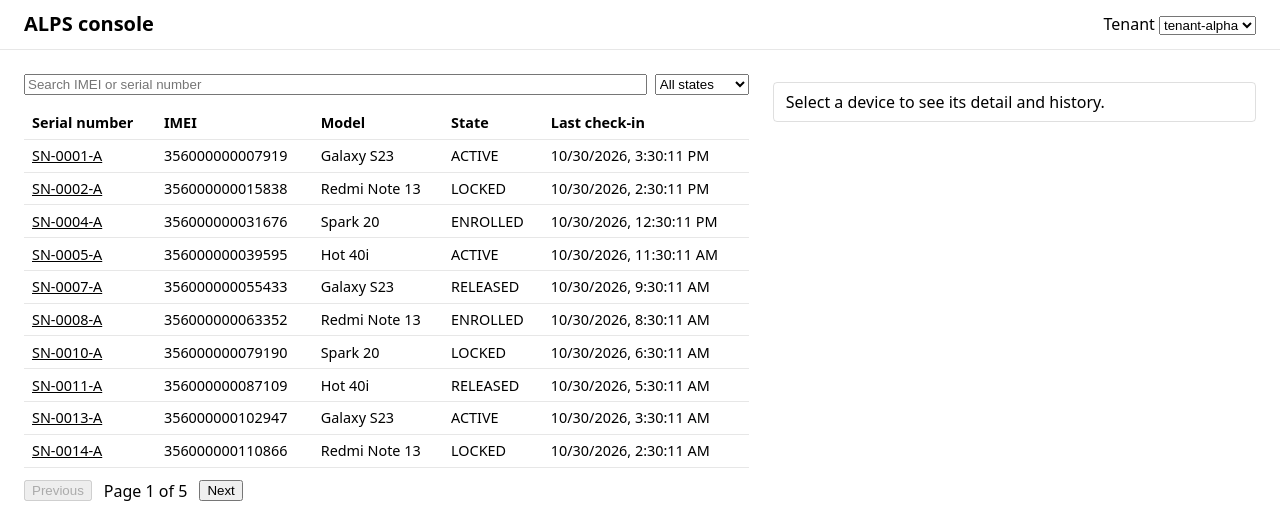
Scenario: Device console › keeps the device detail on screen when only its history fails
Expected: the table named "Device list" is shown, top-left (24, 107), bottom-right (749, 468)
Click the button "SN-0001-A".
click(67, 156)  # box top-left (32, 146), bottom-right (102, 165)
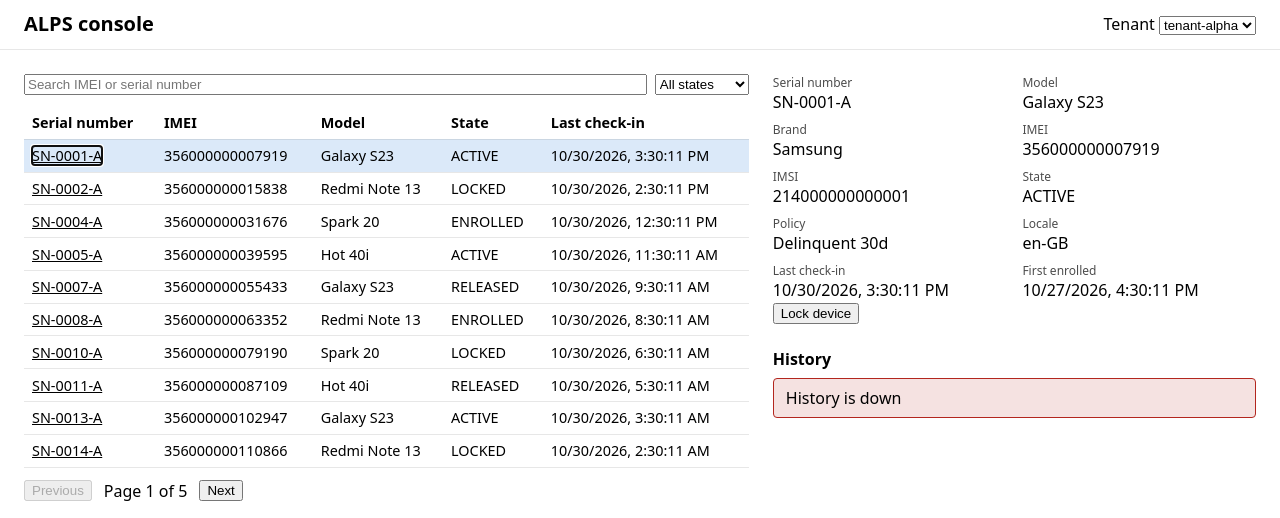
Expected: the table named "Device list" is shown, top-left (24, 107), bottom-right (749, 468)
Expected: the text "History is down" is shown, top-left (773, 378), bottom-right (1256, 418)
Expected: the text "Galaxy S23" is shown, top-left (1022, 91), bottom-right (1104, 113)
